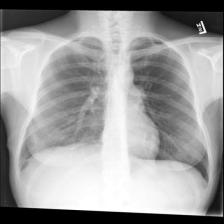normal: (17, 33, 210, 184)
